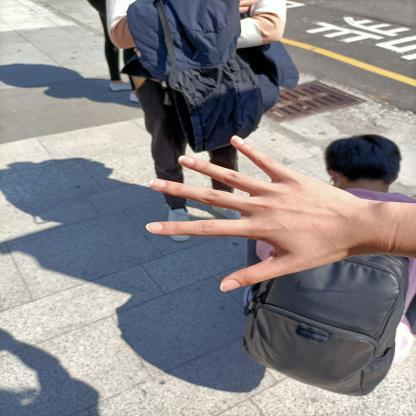bare_hand: (137, 132, 376, 298)
